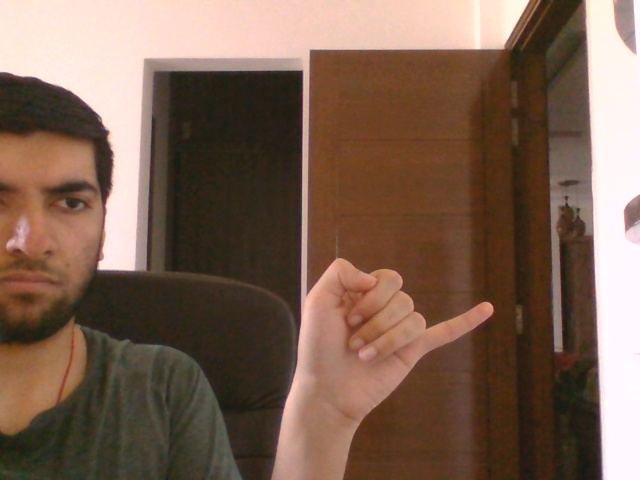LetterJ: (296, 256, 494, 420)
